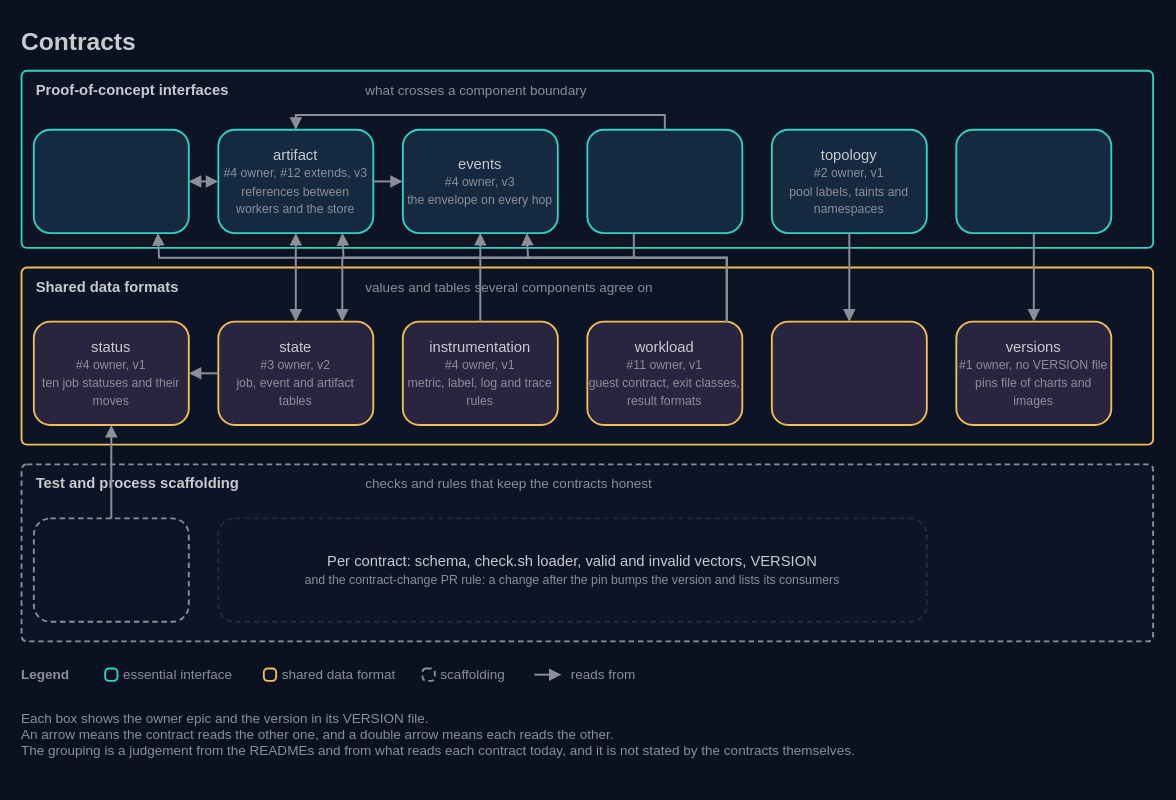
Image size: 1176x800. Some labels were removed from this diagram. Here are the shapes that lost their labels. From the top down, the centre of each, then its label:
At pixel 110 180: "job #5 owner, v2 the document a submitter sends".
At pixel 664 180: "store #3 owner, v3 who may do what in the object store".
At pixel 1033 180: "module #2 owner, v1 how a component plugs into Tilt".
At pixel 848 372: "preset #2 owner, v1 cluster sizes: ci, dev, soak".
At pixel 110 569: "stages #4 owner, v1 who emits and reads each event".
